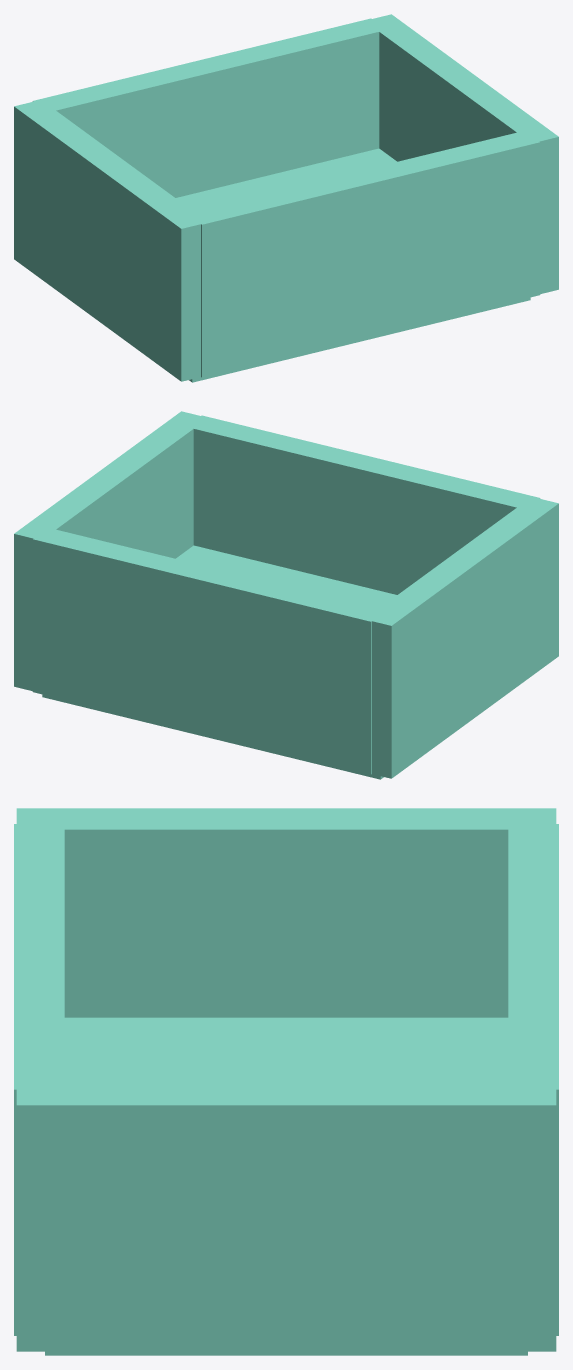
The picture shows the model from 3 angles, top to bottom: view 1: azimuth 30°, elevation 25°; view 2: azimuth 150°, elevation 25°; view 3: azimuth 270°, elevation 25°; orthographic projection. The views are drawn at different scales.
Parts seen in each view (by area): view 1: Bin end, Bin end.001, Bin side, Bin side.001, Bin bottom; view 2: Bin end.001, Bin end, Bin side, Bin side.001, Bin bottom; view 3: Bin side.001, Bin side, Bin bottom, Bin end.001, Bin end.
Part boxes in pixels (box(x1,y1,x2,y2)): Bin end: box(194, 132, 540, 377); Bin end.001: box(32, 18, 386, 197); Bin side: box(14, 101, 207, 381); Bin side.001: box(372, 14, 558, 293); Bin bottom: box(176, 148, 530, 382); Bin end.001: box(32, 528, 386, 774); Bin end: box(193, 415, 540, 594); Bin side: box(372, 497, 558, 778); Bin side.001: box(14, 411, 207, 690); Bin bottom: box(42, 545, 396, 779); Bin side.001: box(16, 1084, 556, 1351); Bin side: box(16, 808, 556, 1017); Bin bottom: box(45, 1017, 527, 1355); Bin end.001: box(508, 824, 558, 1335); Bin end: box(14, 824, 64, 1335).
Size of the model in its own units: 68.75 by 28.7 by 53.35.
